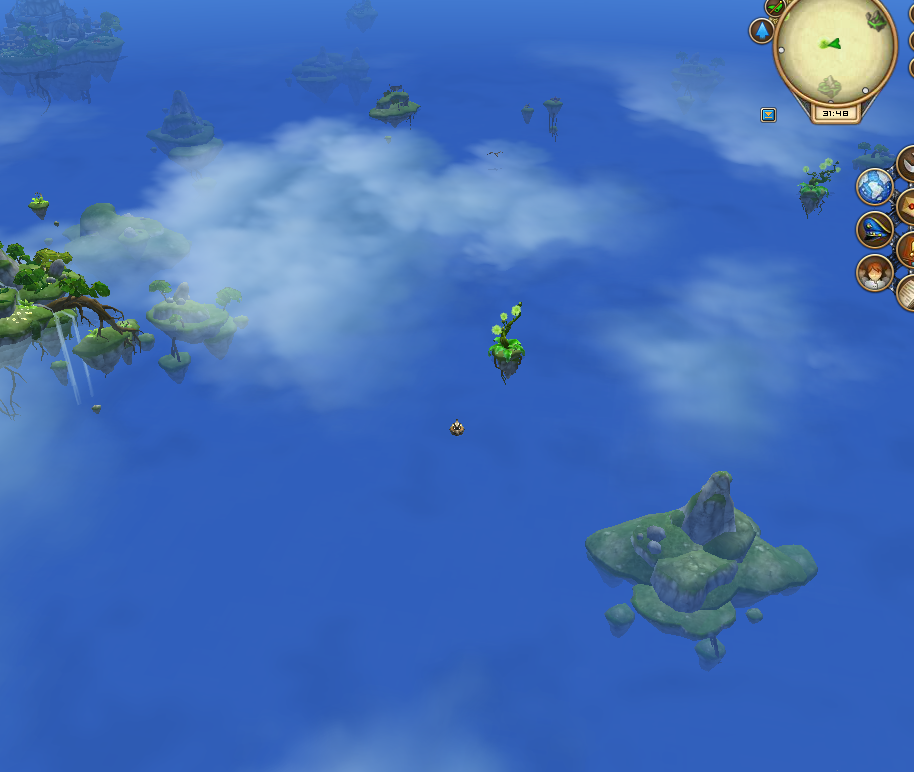dandelion-full: (485, 295, 532, 378), (794, 151, 842, 215)
